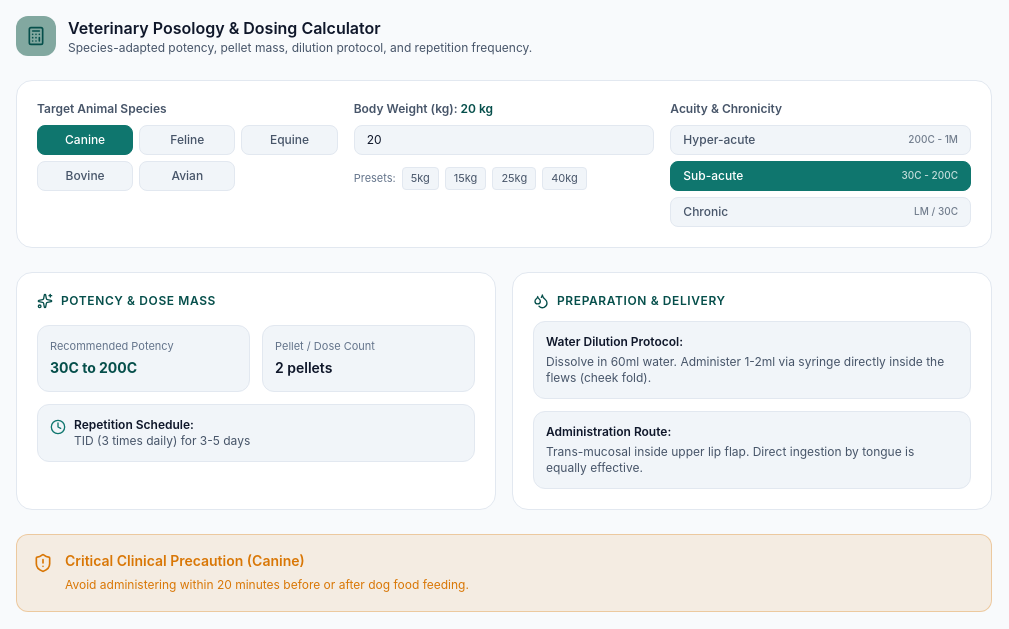
Scenario: VeterinaryPosologyCalculator Component › switches species and updates precaution banner
// Click Feline species button
Click the button "Feline" at (187, 140), box [139, 125, 235, 155]
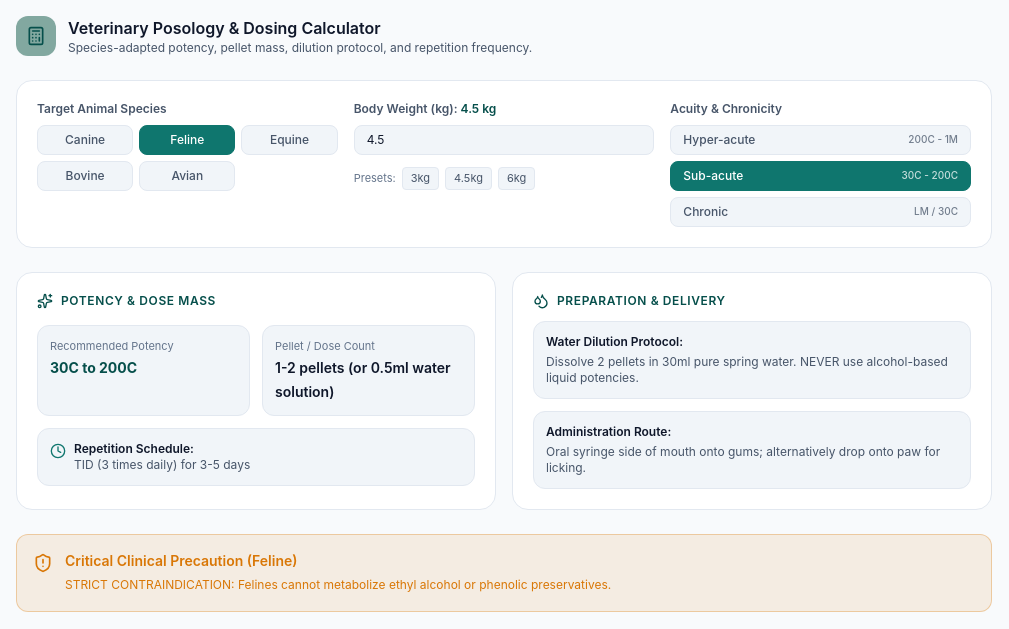
expect the text "Critical Clinical Precaution (Feline)" is shown: met, box [65, 552, 298, 569]
expect the text "cannot metabolize ethyl alcohol" is shown: met, box [65, 577, 611, 592]
